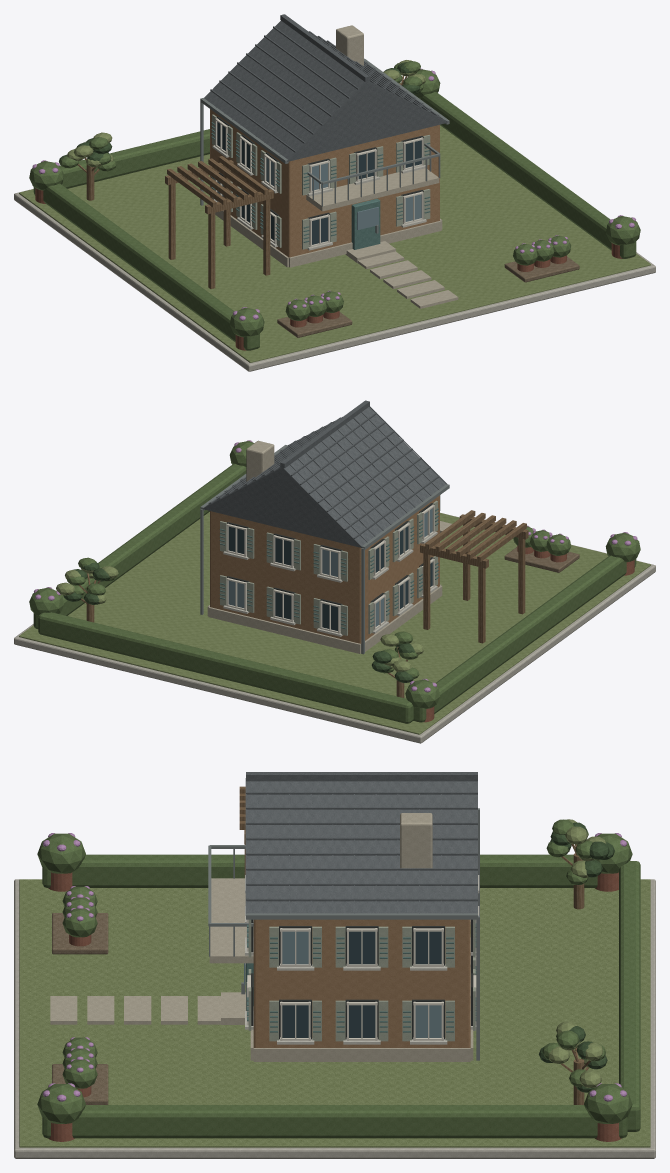
The model's file is EXP_CHALET.glb.
3 renders of one model, top to bottom at view 1: azimuth 30°, elevation 25°; view 2: azimuth 150°, elevation 25°; view 3: azimuth 270°, elevation 25°, orthographic. The views are drawn at different scales.
Parts seen in each view (by area): view 1: EXP_CHALET_Visual; view 2: EXP_CHALET_Visual; view 3: EXP_CHALET_Visual.
Boxes of the visible parts, box(x1,y1,x2,y2) form: EXP_CHALET_Visual: box(14, 14, 655, 371); EXP_CHALET_Visual: box(14, 400, 655, 743); EXP_CHALET_Visual: box(14, 772, 655, 1158).
Size of what is drawn, in the model's own units: 5.92 by 2.55 by 5.92.
22 materials, 17 textured.
